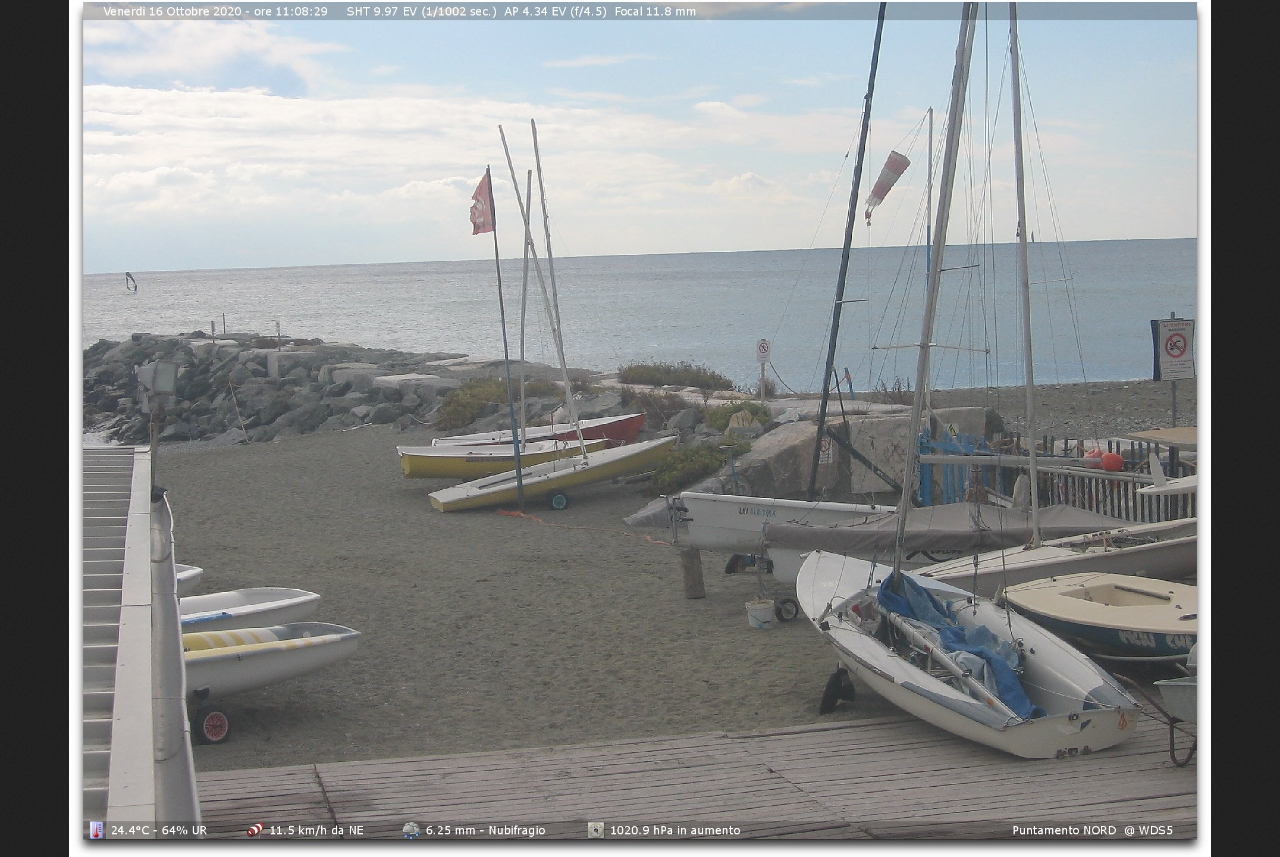yes: (469, 175, 495, 234)
